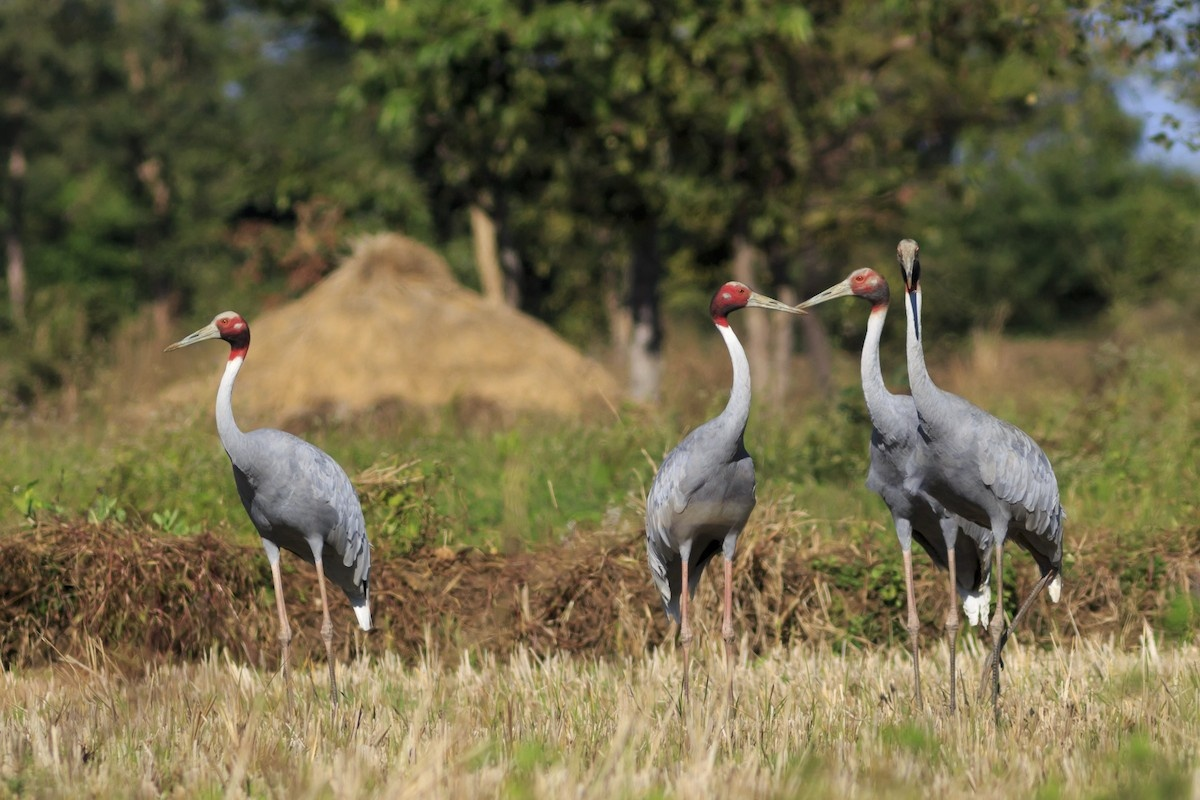crane: (157, 294, 414, 671), (895, 228, 1077, 656), (641, 266, 809, 662), (794, 254, 905, 433)
